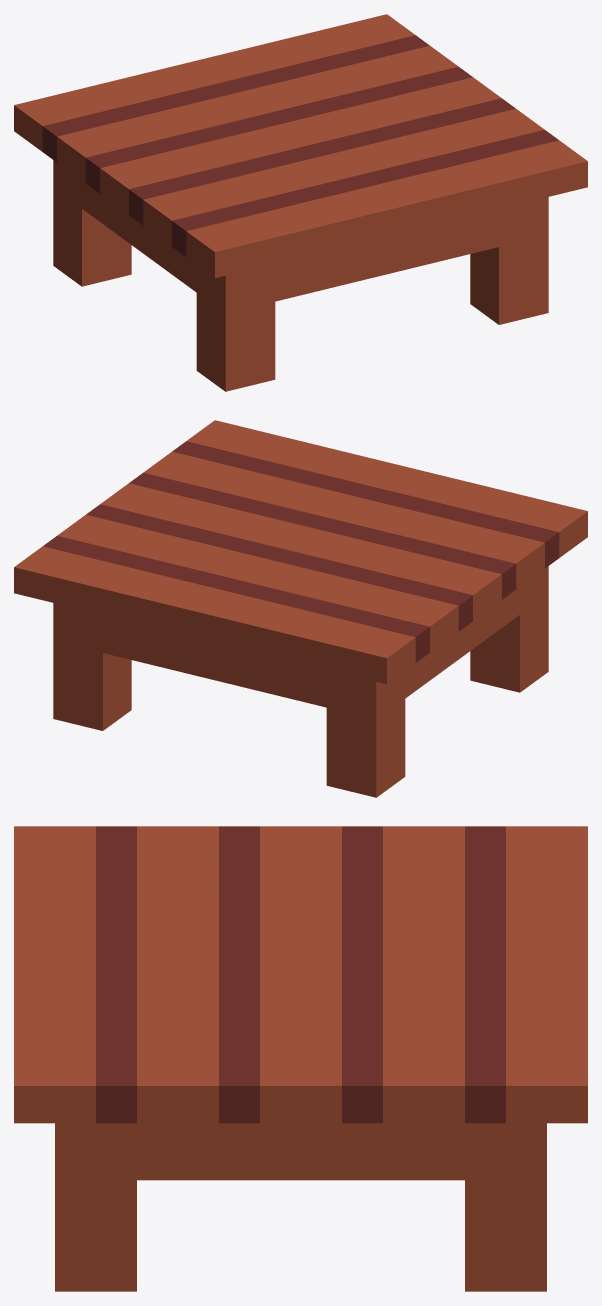
The model's file is small_table_a.obj.
The picture shows the model from 3 angles, top to bottom: view 1: azimuth 30°, elevation 25°; view 2: azimuth 150°, elevation 25°; view 3: azimuth 270°, elevation 25°; orthographic projection. The views are drawn at different scales.
Size of the model in its own units: 1.5 by 0.6 by 1.4.
1 material, 1 textured.
